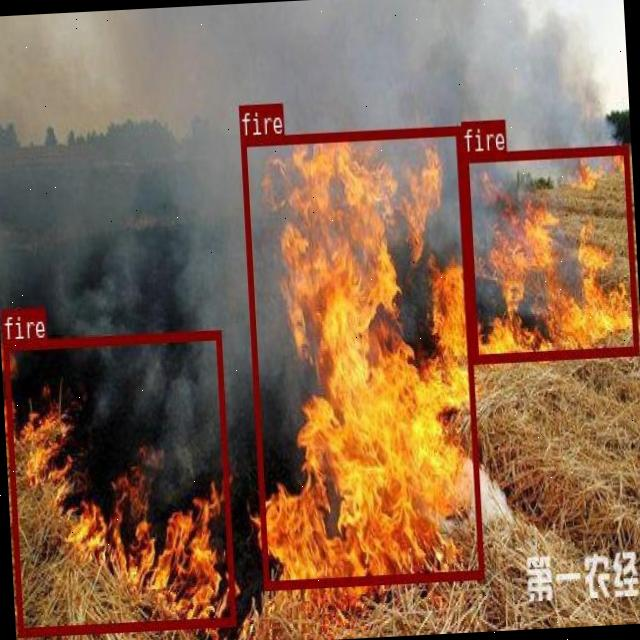fire: (240, 126, 483, 588), (2, 328, 235, 636), (462, 144, 638, 361)
